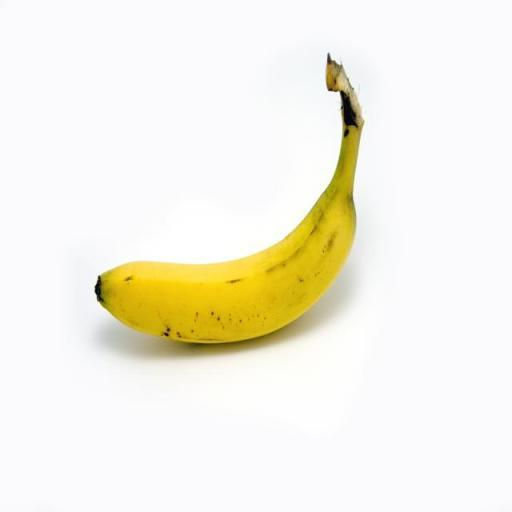fruit: (96, 56, 361, 342)
